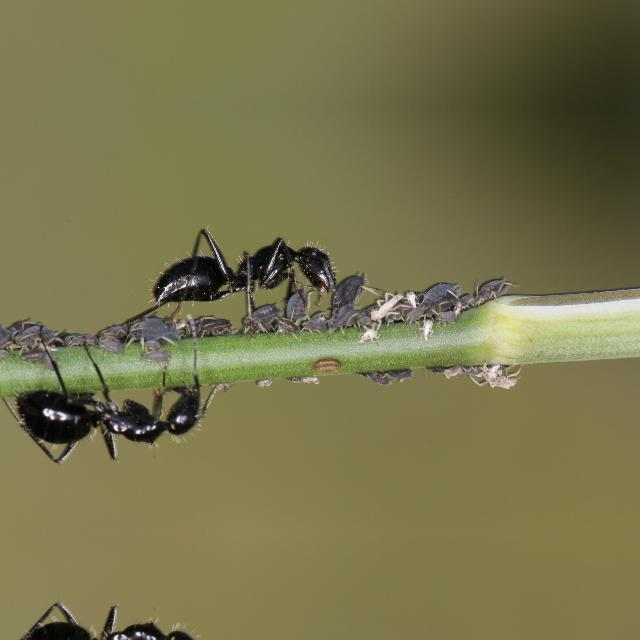Camponotus: (124, 210, 370, 320)
